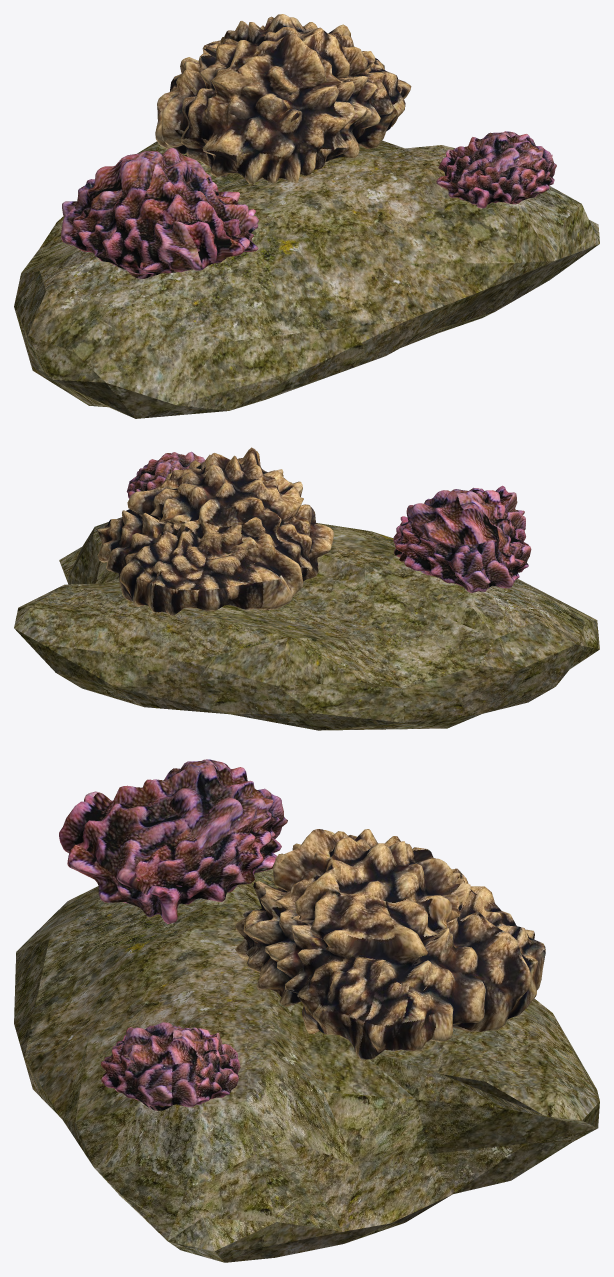
The model's file is pocillopora-meandrina.glb.
3 views of the same model, one above another, from view 1: azimuth 30°, elevation 25°; view 2: azimuth 150°, elevation 25°; view 3: azimuth 270°, elevation 25° (orthographic). The views are drawn at different scales.
Parts seen in each view (by area): view 1: rock, cauliflower0, cauliflower1, cauliflower2; view 2: rock, cauliflower0, cauliflower1, cauliflower2; view 3: rock, cauliflower0, cauliflower1, cauliflower2.
Boxes of the visible parts, <box> form: rock: <box>14,140,599,418</box>; cauliflower0: <box>155,14,411,184</box>; cauliflower1: <box>61,148,258,278</box>; cauliflower2: <box>436,131,556,208</box>; rock: <box>14,517,599,730</box>; cauliflower0: <box>97,447,333,615</box>; cauliflower1: <box>393,485,531,592</box>; cauliflower2: <box>126,451,204,498</box>; rock: <box>14,868,599,1262</box>; cauliflower0: <box>235,829,545,1059</box>; cauliflower1: <box>59,759,287,923</box>; cauliflower2: <box>101,1022,240,1110</box>.
Size of the model in its own units: 1.1 by 0.5061 by 0.8.
4 materials, 4 textured.
